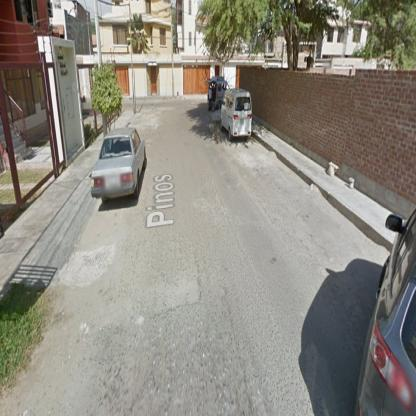Obstaculo: (58, 244, 116, 289), (152, 263, 202, 315)
Vehiculo: (92, 128, 148, 204), (221, 88, 254, 143)
